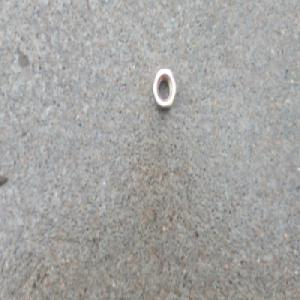Nut: (152, 67, 176, 110)
